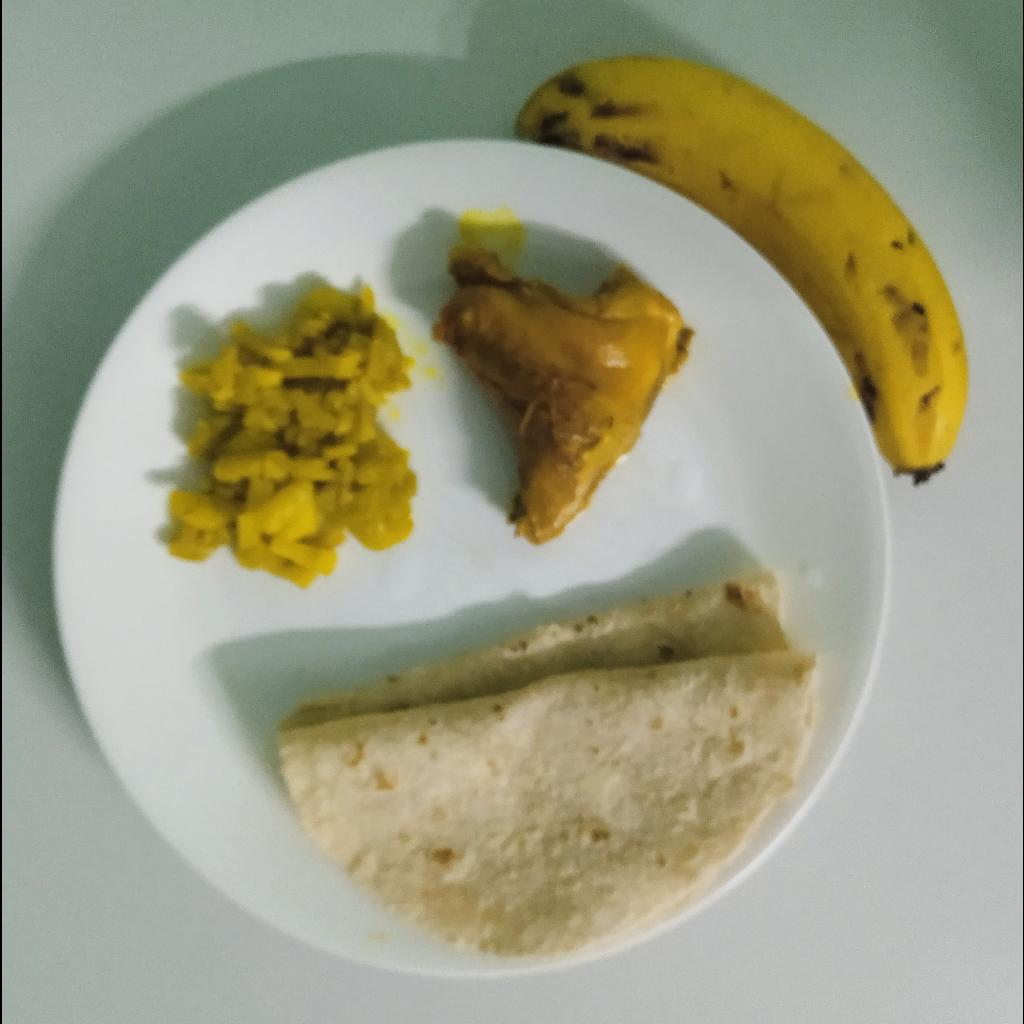banana: (514, 54, 973, 485)
chicken: (437, 252, 700, 543)
lau: (166, 281, 417, 591)
ruti: (271, 568, 821, 957)
